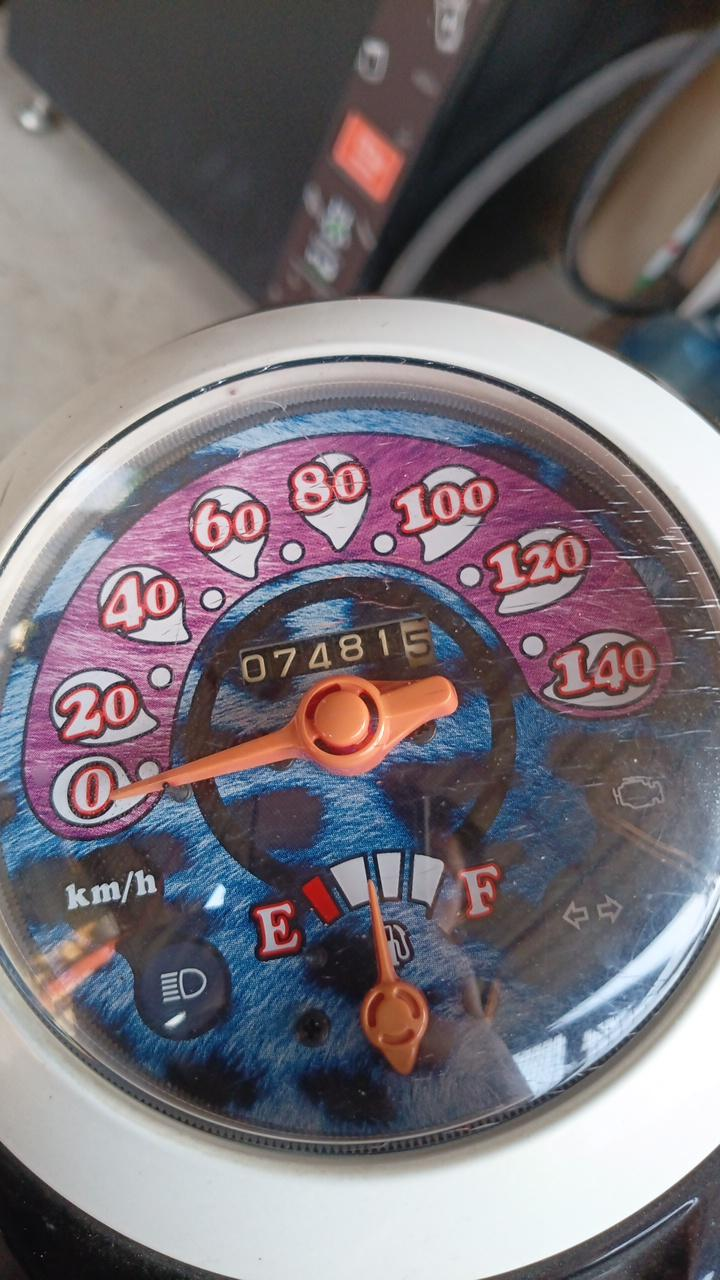0: (242, 653, 267, 684)
1: (378, 627, 390, 657)
4: (308, 642, 332, 671)
5: (405, 627, 431, 658)
7: (273, 646, 296, 679)
8: (338, 633, 364, 662)
odometer: (237, 614, 439, 688)
